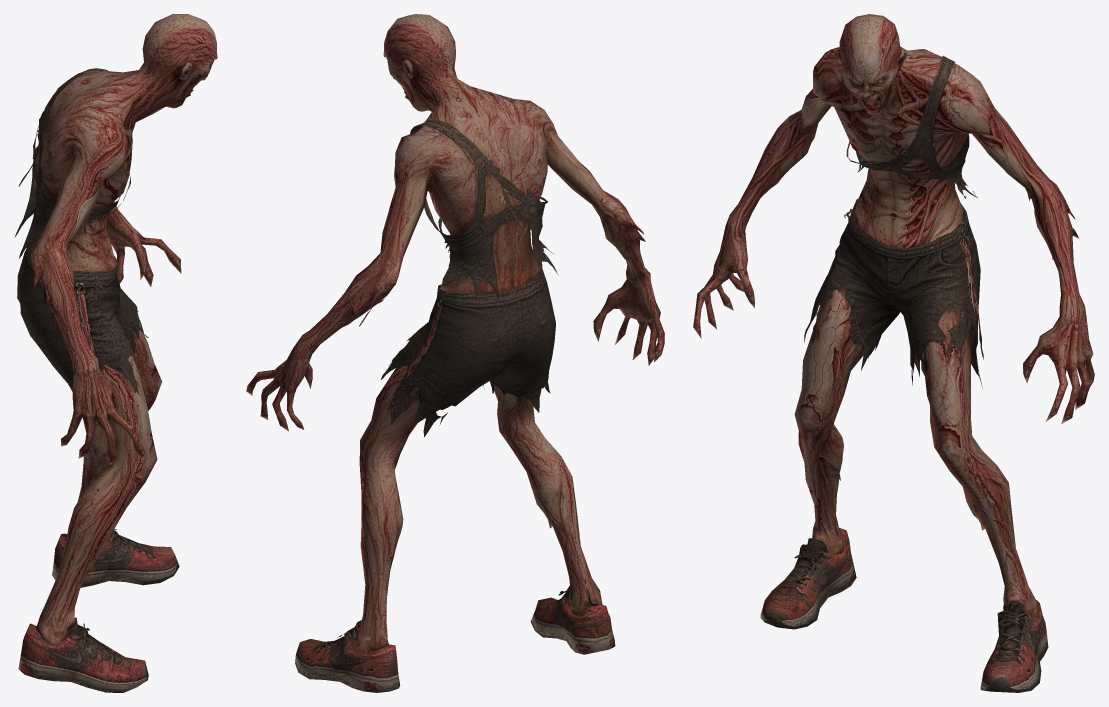
The model's file is tripo_convert_26e68b8c-1644-4d6f-8825-68361eef67c3.fbx.
3 renders of one model, left to right at view 1: azimuth 30°, elevation 25°; view 2: azimuth 150°, elevation 25°; view 3: azimuth 270°, elevation 25°, orthographic. The views are drawn at different scales.
Parts seen in each view (by area): view 1: tripo_node_26e68b8c; view 2: tripo_node_26e68b8c; view 3: tripo_node_26e68b8c.
Part boxes in pixels (bbox=[...]): tripo_node_26e68b8c: bbox=[14, 14, 217, 692]; tripo_node_26e68b8c: bbox=[246, 14, 664, 692]; tripo_node_26e68b8c: bbox=[693, 14, 1094, 692].
Bounding box in the file's own units: 0.4629 × 0.998 × 0.5566.
Materials: 1 (1 with a texture image).
